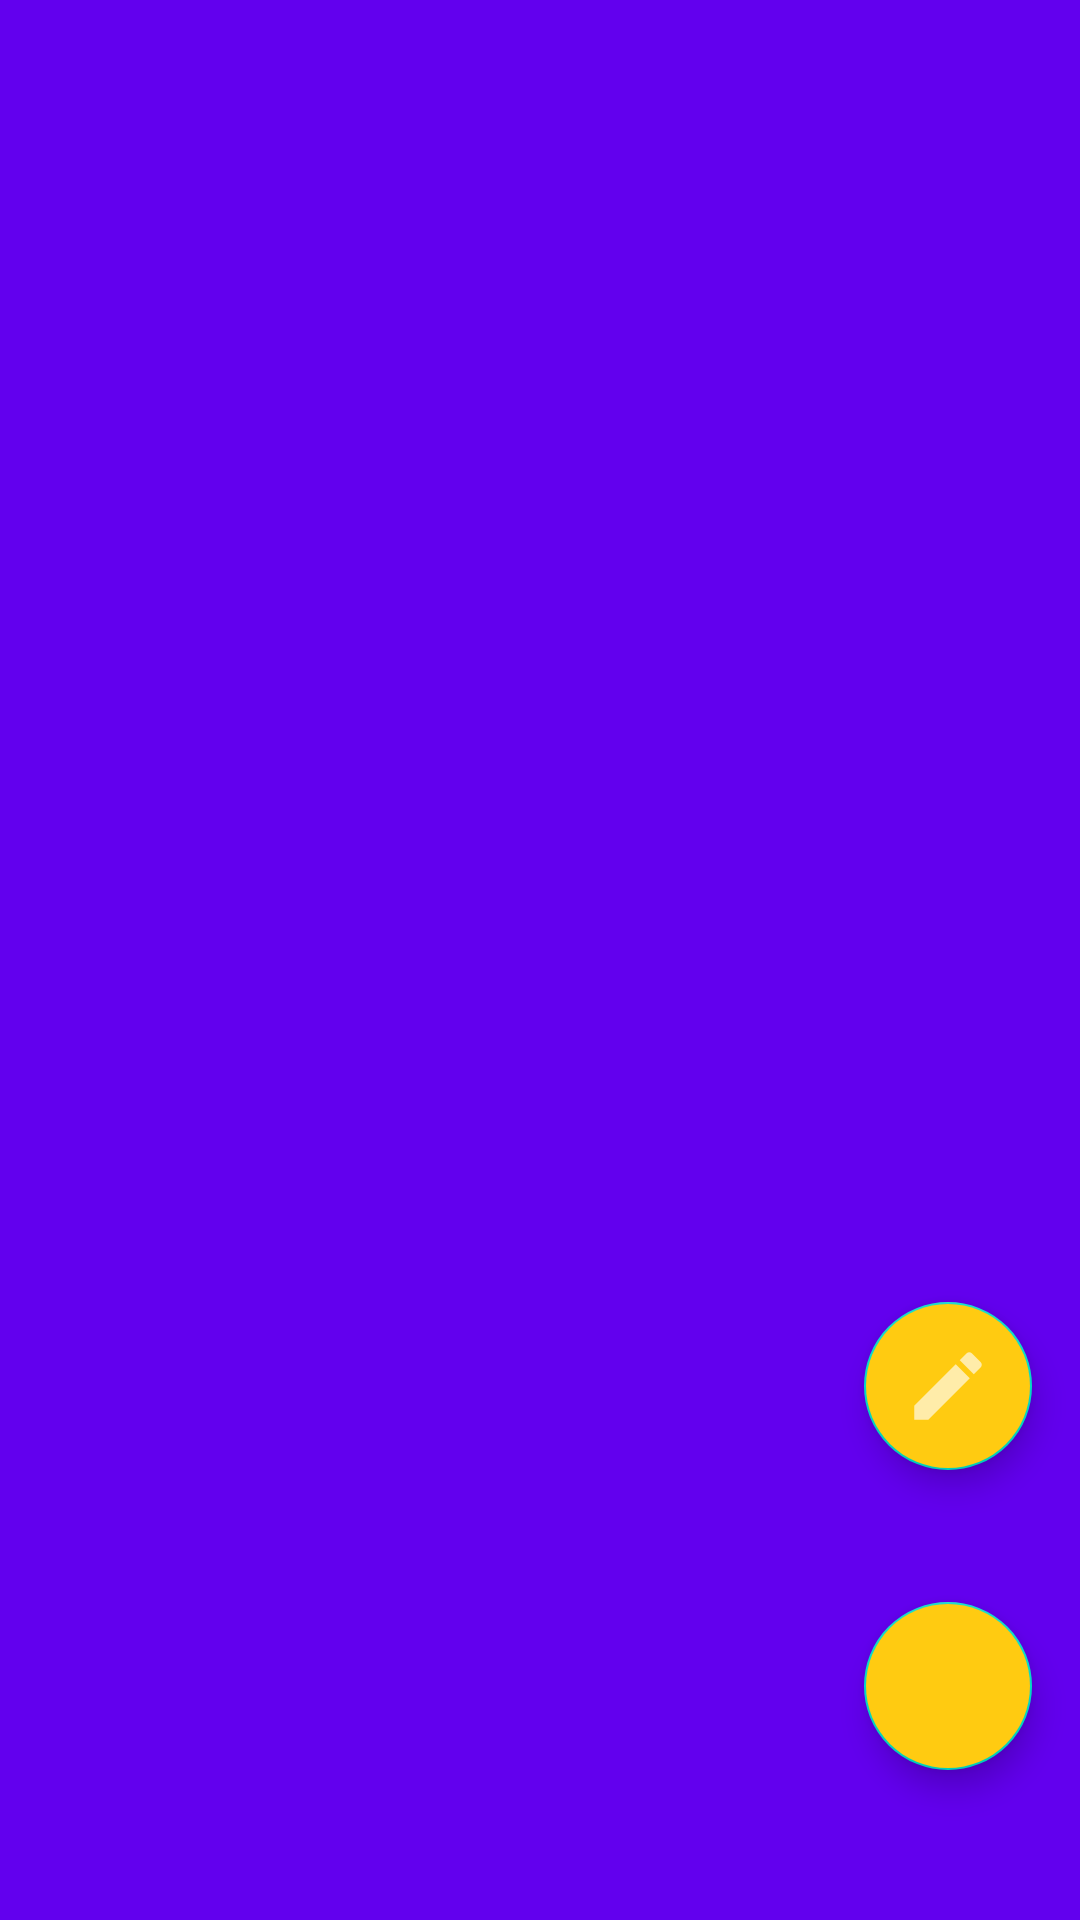

Screen size 1080x1920. Icon name, then its center in pixels as point (x, y):
edit: point (948, 1386)
